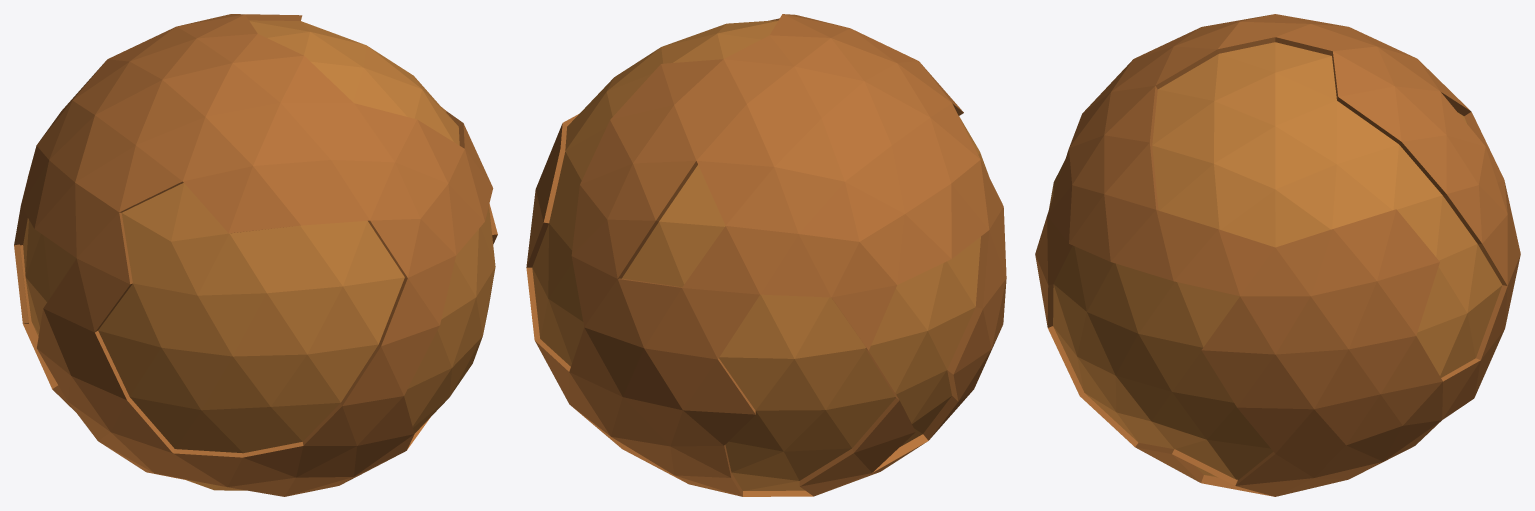
Rendered from mercury.glb.
3 views of the same model, side by side, from view 1: azimuth 30°, elevation 25°; view 2: azimuth 150°, elevation 25°; view 3: azimuth 270°, elevation 25° (orthographic). The views are drawn at different scales.
Parts seen in each view (by area): view 1: Icosphere; view 2: Icosphere; view 3: Icosphere.
Boxes of the visible parts, x1=… form: Icosphere: x1=14, y1=14, x2=497, y2=496; Icosphere: x1=526, y1=14, x2=1006, y2=496; Icosphere: x1=1035, y1=14, x2=1520, y2=496.
Size of the model in its own units: 0.4895 by 0.4874 by 0.496.
